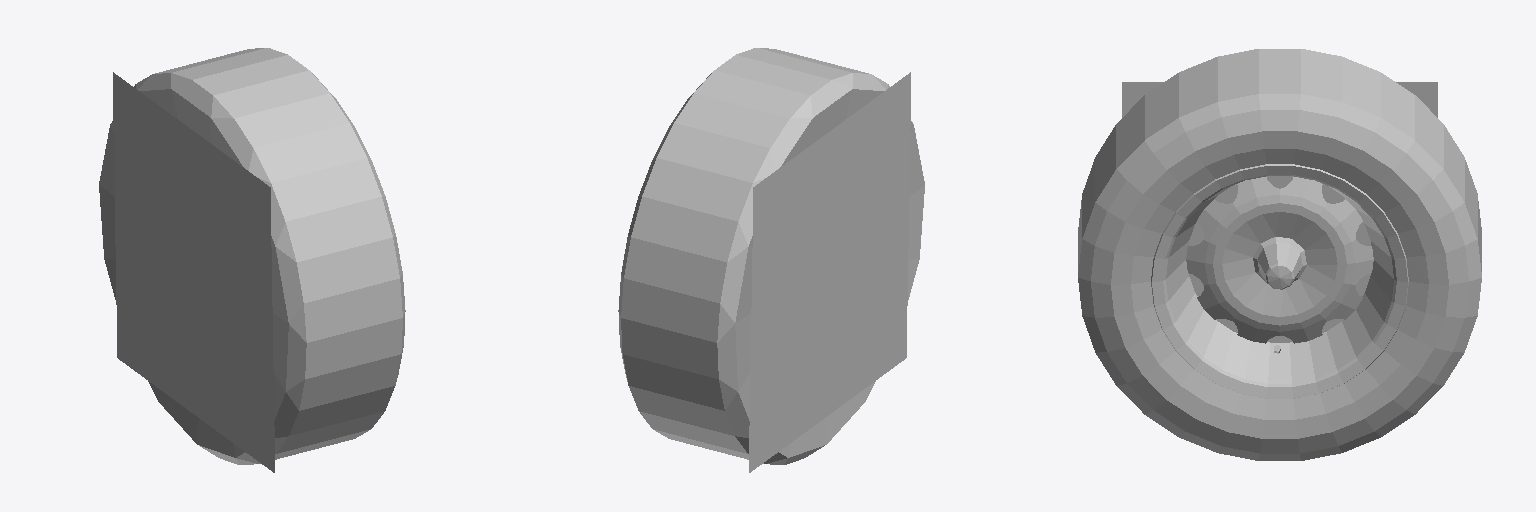
File: car_tire_left_head.obj
3 renders of one model, left to right at view 1: azimuth 30°, elevation 25°; view 2: azimuth 150°, elevation 25°; view 3: azimuth 270°, elevation 25°, orthographic.
Size of the model in its own units: 0.2377 by 0.6428 by 0.6434.